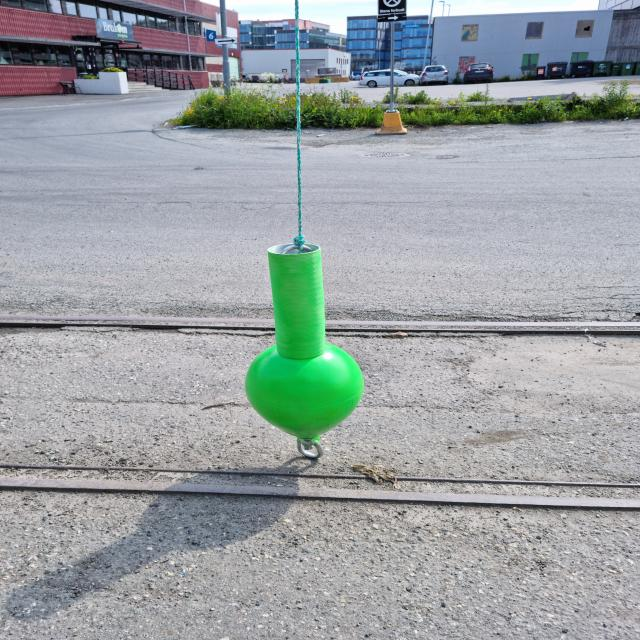green: (245, 242, 367, 439)
